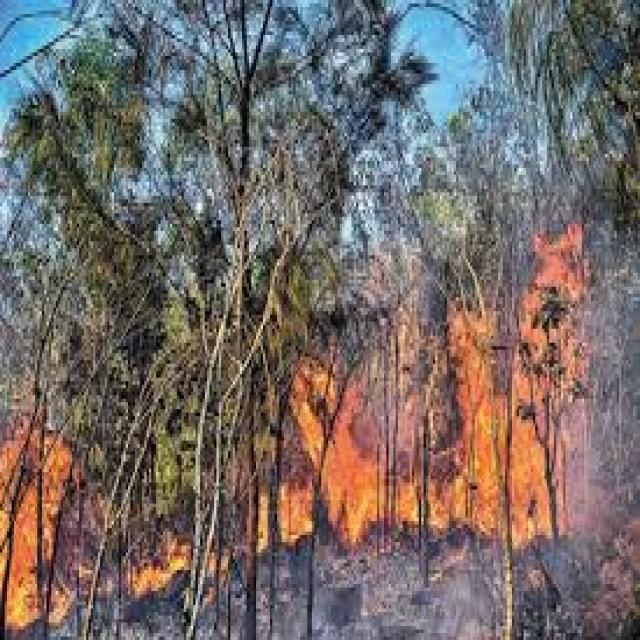Fire: (458, 308, 571, 542), (294, 370, 376, 543)
